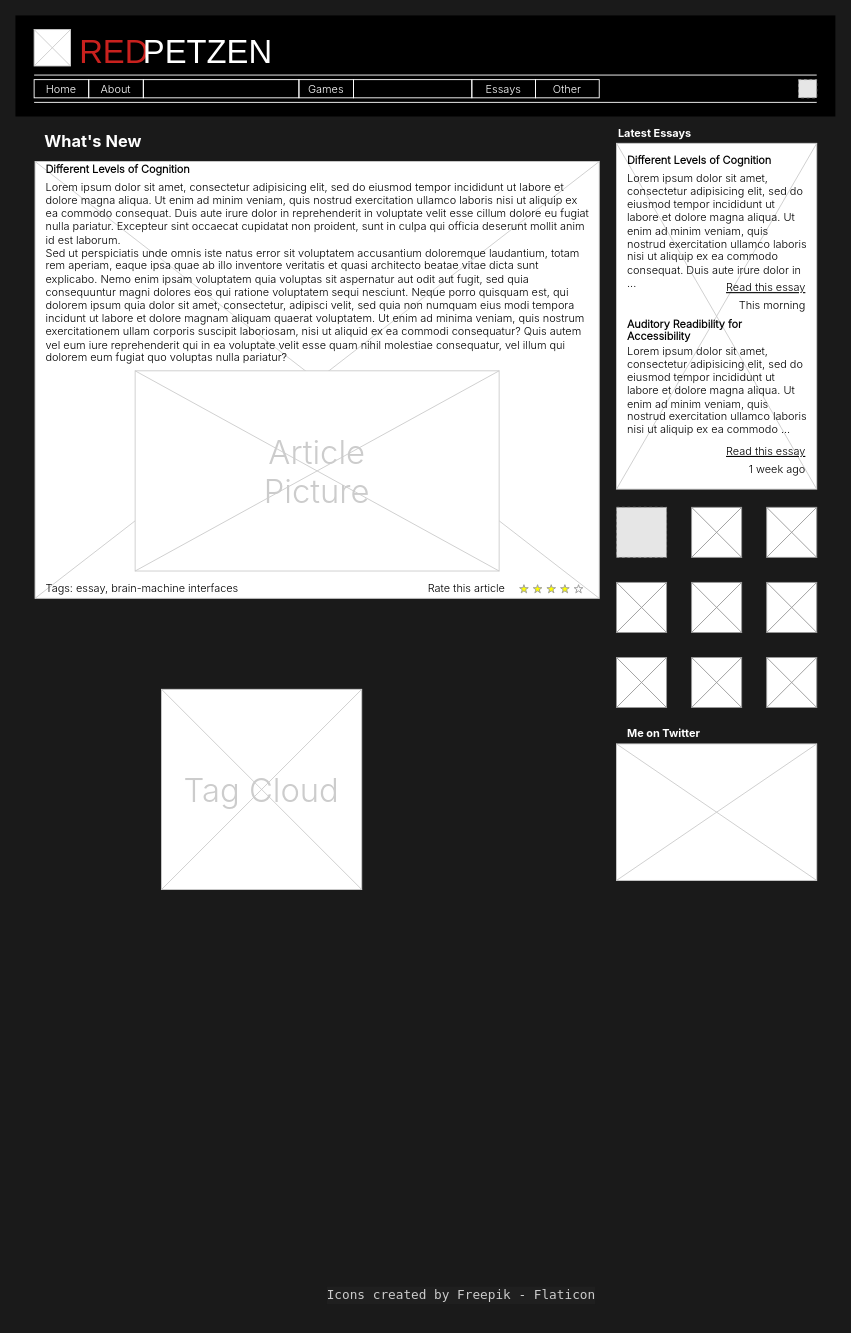
Image size: 851x1333. Some labels were removed from this diagram. Grey dashed boxes stand in for pictures. Each missing label, with the box of its shape:
Blog Logo: (33, 29, 71, 66)
Electrical Projects: (353, 79, 472, 98)
I don't have a Twitter: (616, 743, 817, 880)
Machine Learning Projects: (142, 79, 299, 98)
